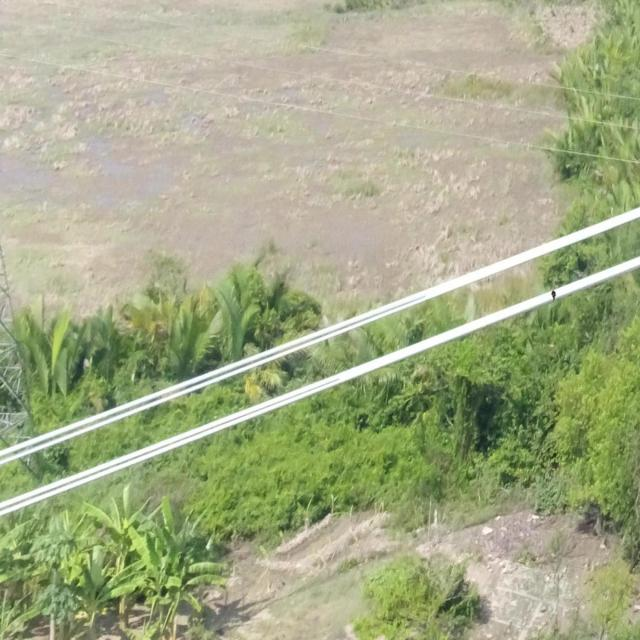corrosion: (551, 290, 557, 301)
